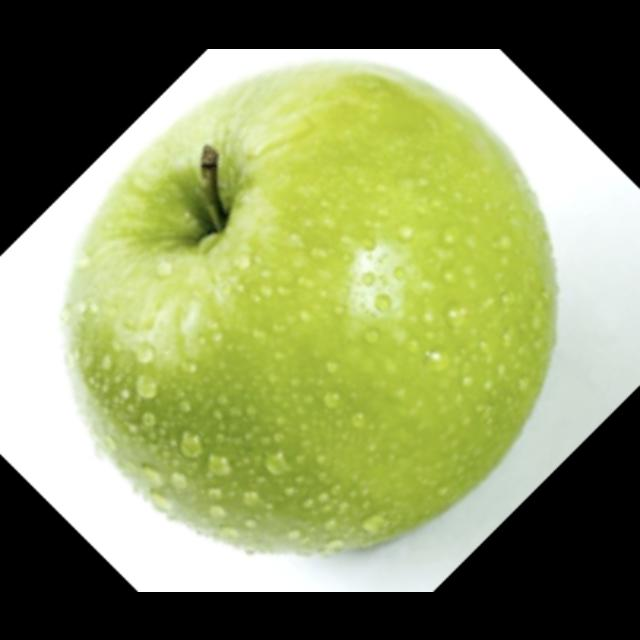Apel Segar: (50, 54, 563, 561)
